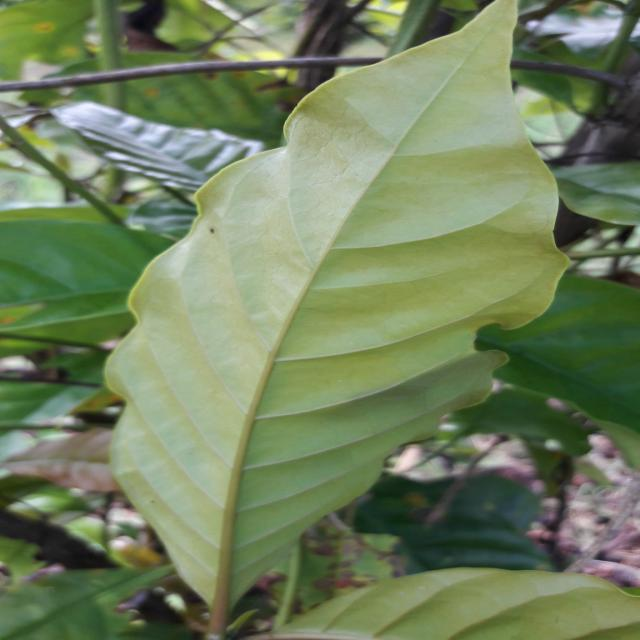Sanas: (102, 0, 571, 638)
